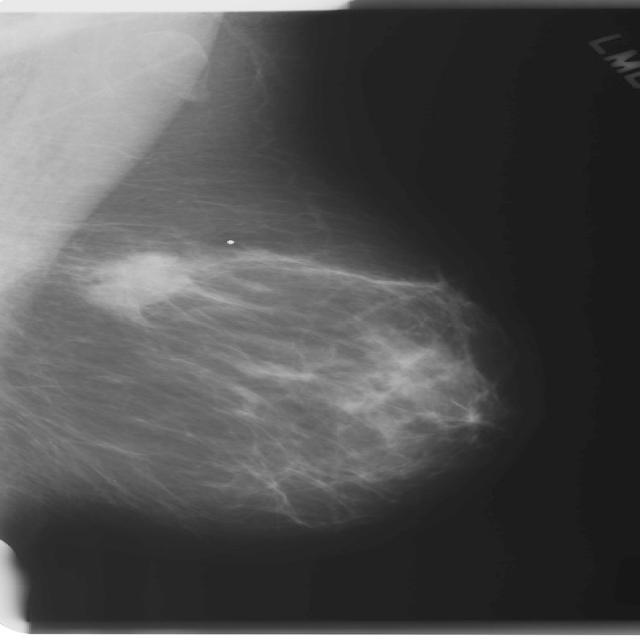tumour: (84, 252, 185, 309)
